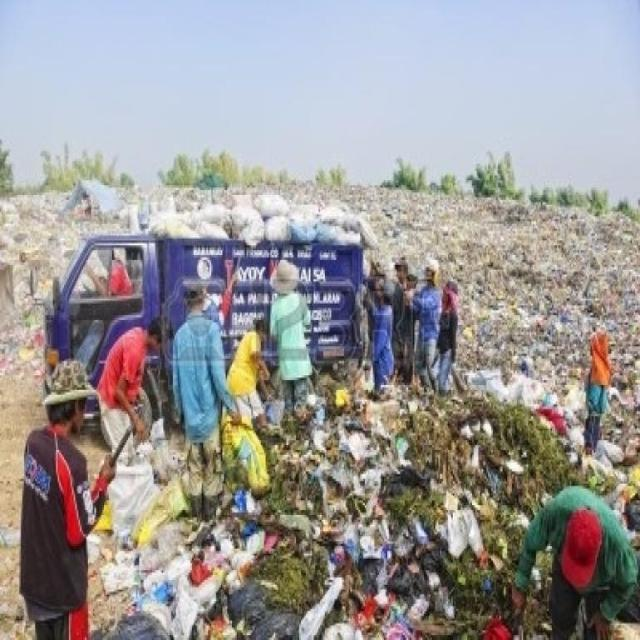Plastics: (462, 185, 630, 324)
